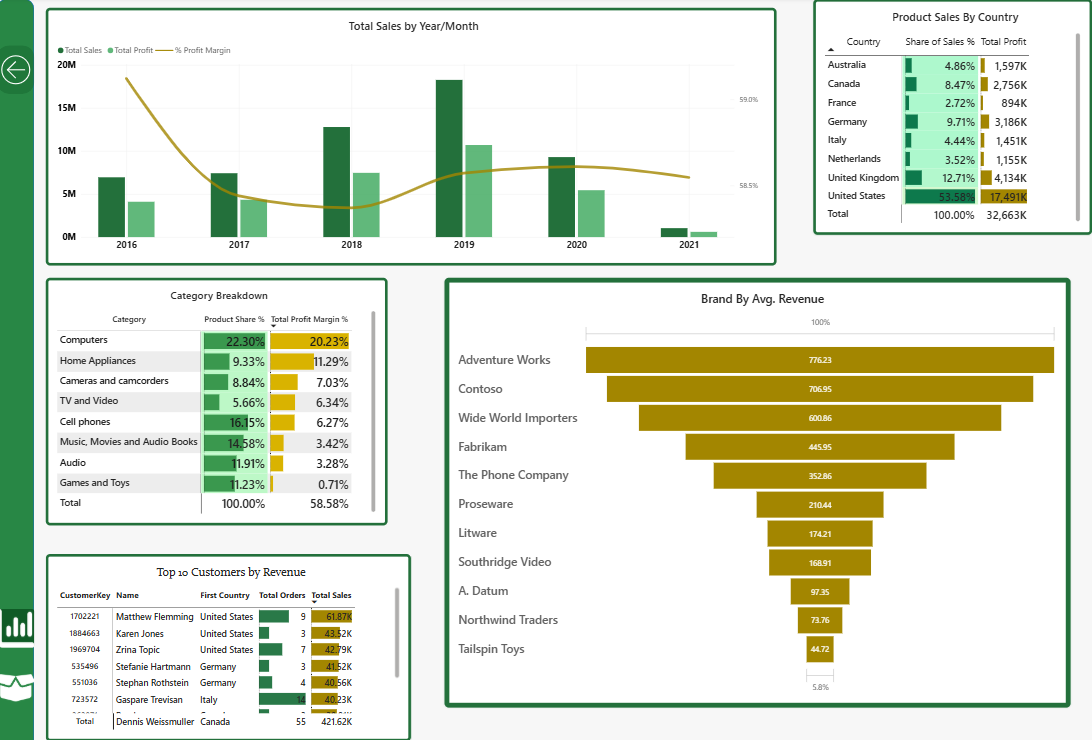

The page's visual inventory and layout, read from the dashboard file:
{"tool":"powerbi","page":{"name":"Product Details","canvas":[1990,1350],"ordinal":1},"visuals":[{"type":"shape","box":[0,0,67.3,1399.7],"z":0},{"type":"lineClusteredColumnComboChart","title":"Total Sales by Year/Month","fields":{"Category":["Sales.Start of Year"],"Y":["Measure Table.Total Revenue","Measure Table.Total Profit"],"Y2":["Measure Table.% Profit Margin"]},"box":[88.1,16.7,1328.6,469],"z":1000},{"type":"pivotTable","title":"Category Breakdown","fields":{"Rows":["Products.Category"],"Values":["Measure Table.Product Share %","Measure Table.Total Profit Margin %"]},"box":[88.1,507.1,621.4,450],"z":2000},{"type":"pivotTable","title":"Product Sales By Country ","fields":{"Rows":["Customers.Country"],"Values":["Measure Table.Share of Sales   %","Measure Table.Total Profit"]},"box":[1483.3,0,507.1,428.6],"z":3000},{"type":"funnel","title":" Brand By Avg. Revenue ","fields":{"Category":["Products.Brand","Customers.CustomerKey","Products.ProductKey"],"Y":["Measure Table.Average Revenue Per Customer"]},"box":[813.6,506.8,1138.6,781.8],"z":4000},{"type":"pivotTable","title":"Top 10 Customers  by Revenue ","fields":{"Rows":["Customers.CustomerKey"],"Values":["Min(Customers.Name)","Min(Customers.Country)","Measure Table.Total Orders","Measure Table.Total Revenue"]},"box":[88.1,1009.5,664.3,340.5],"z":5000},{"type":"actionButton","box":[0,84.1,68.2,88.6],"z":5001},{"type":"actionButton","box":[0,1109.1,68.2,70.5],"z":5002},{"type":"image","box":[0,1209.1,68.2,86.4],"z":5003}]}

Visuals, with their boxes in screenshot pixels (x1, y1, x2, y2):
shape: rect(6, 3, 42, 739)
"Total Sales by Year/Month" lineClusteredColumnComboChart: rect(53, 12, 771, 265)
"Category Breakdown" pivotTable: rect(53, 277, 389, 520)
"Product Sales By Country " pivotTable: rect(807, 3, 1081, 234)
" Brand By Avg. Revenue " funnel: rect(445, 277, 1060, 699)
"Top 10 Customers  by Revenue " pivotTable: rect(53, 548, 412, 732)
actionButton: rect(6, 48, 43, 96)
actionButton: rect(6, 602, 43, 640)
image: rect(6, 656, 43, 703)
